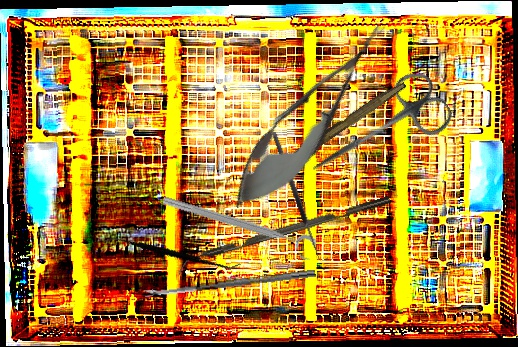Chopper: (174, 196, 394, 275)
Fixation Ring: (158, 191, 318, 263)
Hook Surgical: (270, 129, 330, 263)
Iris Scissors: (296, 63, 458, 201)
Micro Scissor: (216, 7, 404, 226)
Scalpel Handle: (246, 76, 407, 195)
Spatula Surgical: (103, 199, 242, 305)
Surgical Spoon: (144, 268, 316, 298)
